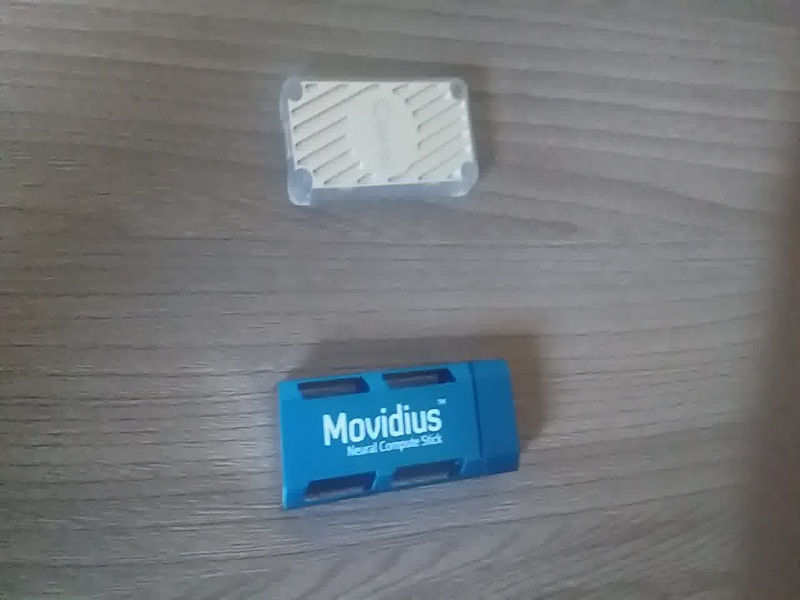coral: (273, 66, 488, 221)
movidius: (266, 352, 539, 511)
